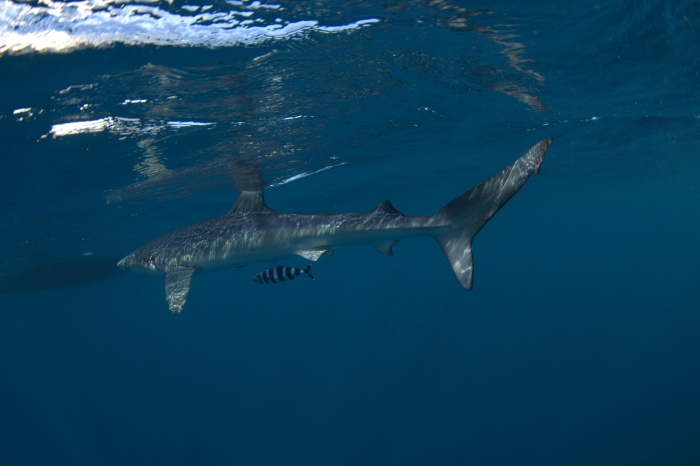Azul: (101, 144, 569, 348)
